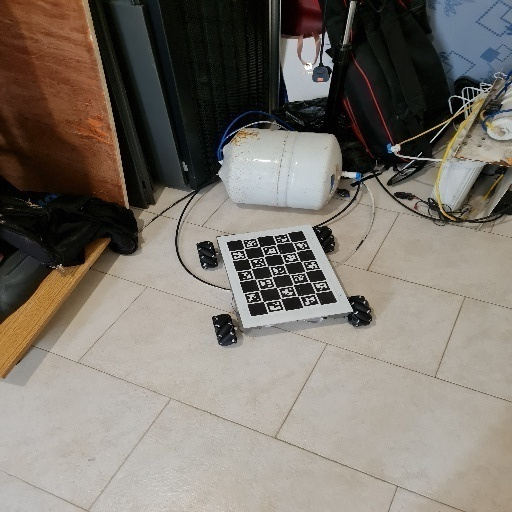Omniwheel: (196, 223, 375, 347)
